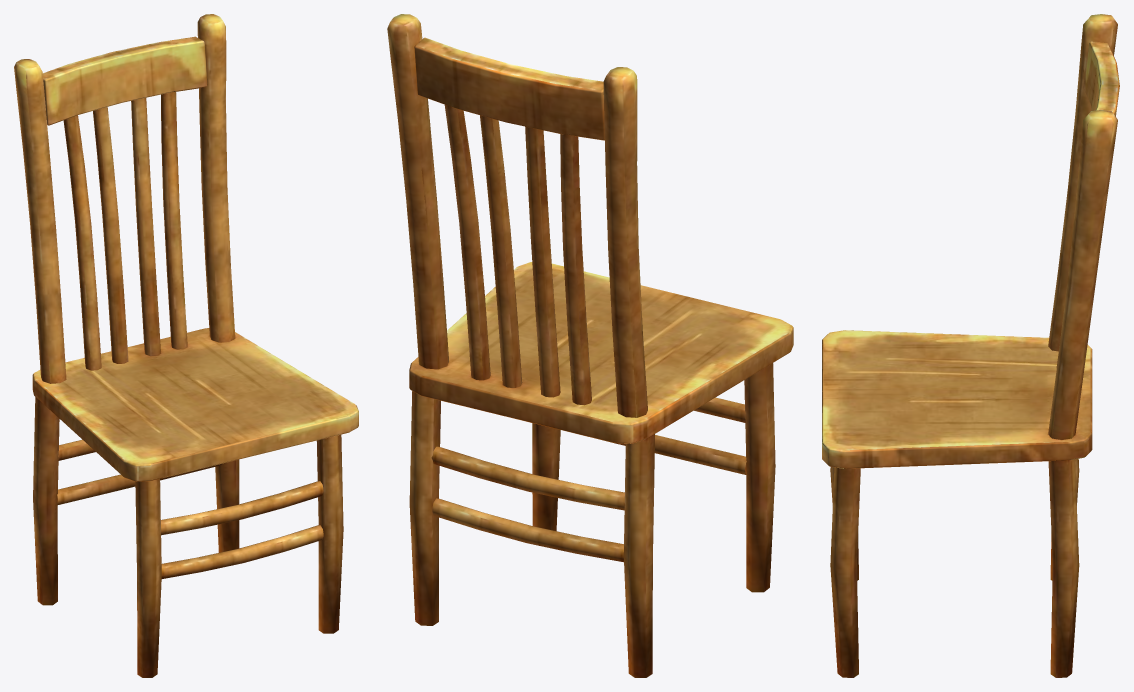
The model's file is SM_Chair001.glb.
3 views of the same model, side by side, from view 1: azimuth 30°, elevation 25°; view 2: azimuth 150°, elevation 25°; view 3: azimuth 270°, elevation 25° (orthographic). The views are drawn at different scales.
Parts seen in each view (by area): view 1: SM_Chair001_lp; view 2: SM_Chair001_lp; view 3: SM_Chair001_lp.
Boxes of the visible parts, x1,y1,x2,y2 form: SM_Chair001_lp: (14, 14, 358, 677); SM_Chair001_lp: (387, 14, 793, 677); SM_Chair001_lp: (822, 14, 1119, 677).
Bounding box in the file's own units: 0.6 × 1.29 × 0.6217.
Materials: 1 (1 with a texture image).
